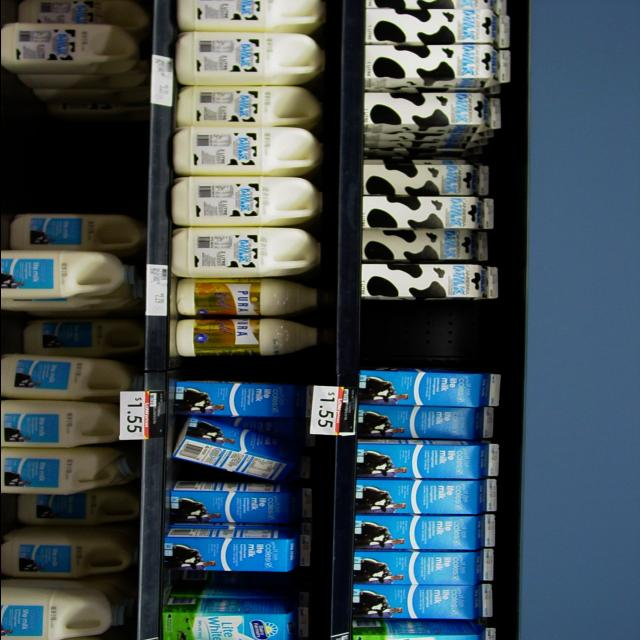empty_space: (0, 122, 136, 213), (364, 304, 488, 370), (176, 357, 300, 379)
